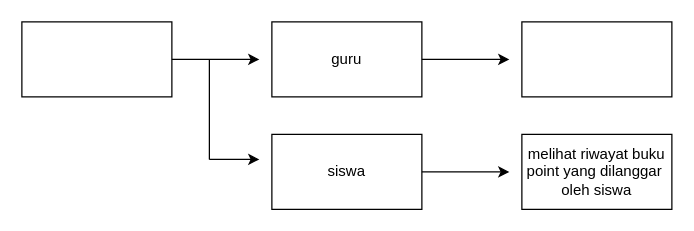
The diagram is 694 pixels wide and 231 high, and some of its shapes have lost their labels. The centre of each missing label's shape, as x and y in pixels:
Login: the point at 96,59
mendata siswa yang melanggar peraturan: the point at 596,59
